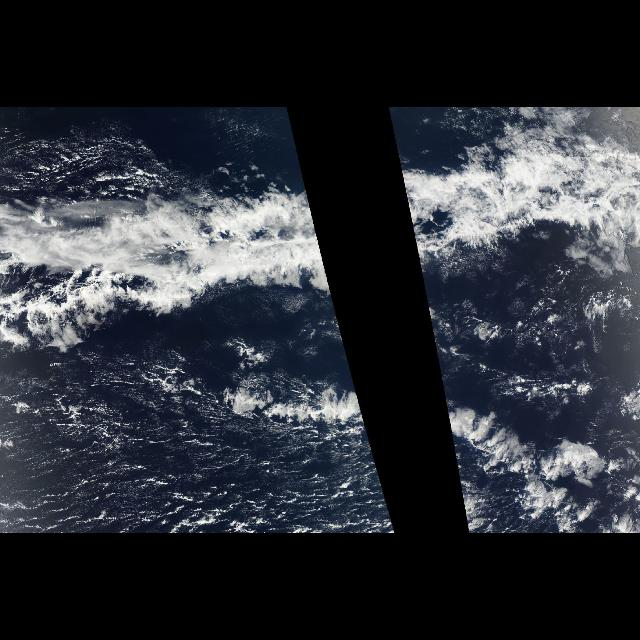Fish: (2, 121, 396, 533), (390, 121, 640, 533)
Sugar: (0, 381, 396, 534), (448, 421, 512, 534)
